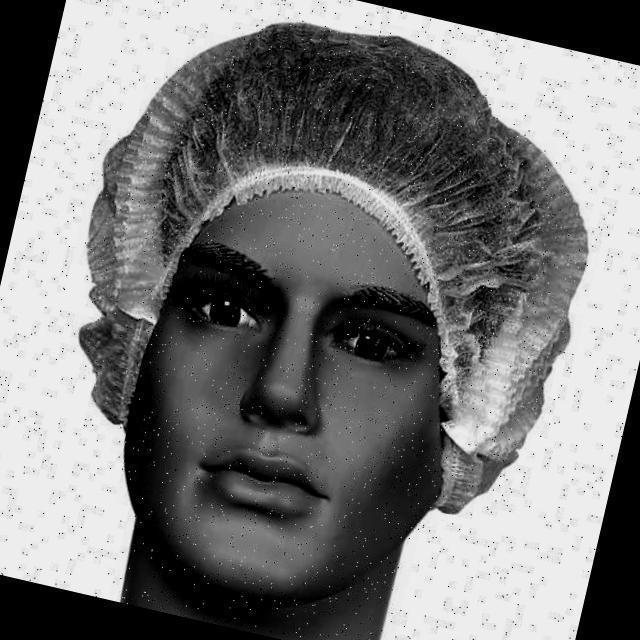gloves: (101, 3, 624, 336)
no_hairnet: (114, 353, 420, 536)
